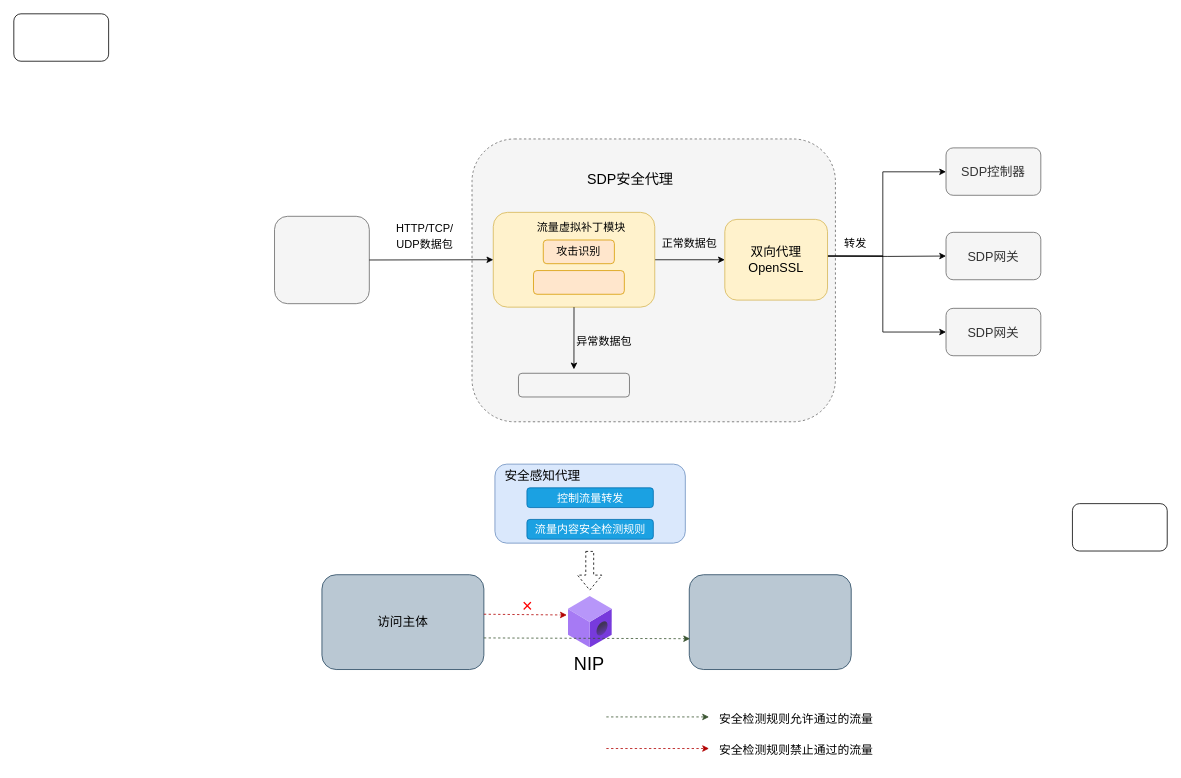
The diagram is 1181 pixels wide and 778 high, and some of its shapes have lost their labels. Each missing label, with the centre of its shape:
"企业资源" goes at pixel 769 622.
"漏洞攻击行为识别" goes at pixel 578 282.
"用户发起请求" goes at pixel 321 260.
"阻断、重定向、限流" goes at pixel 573 384.
